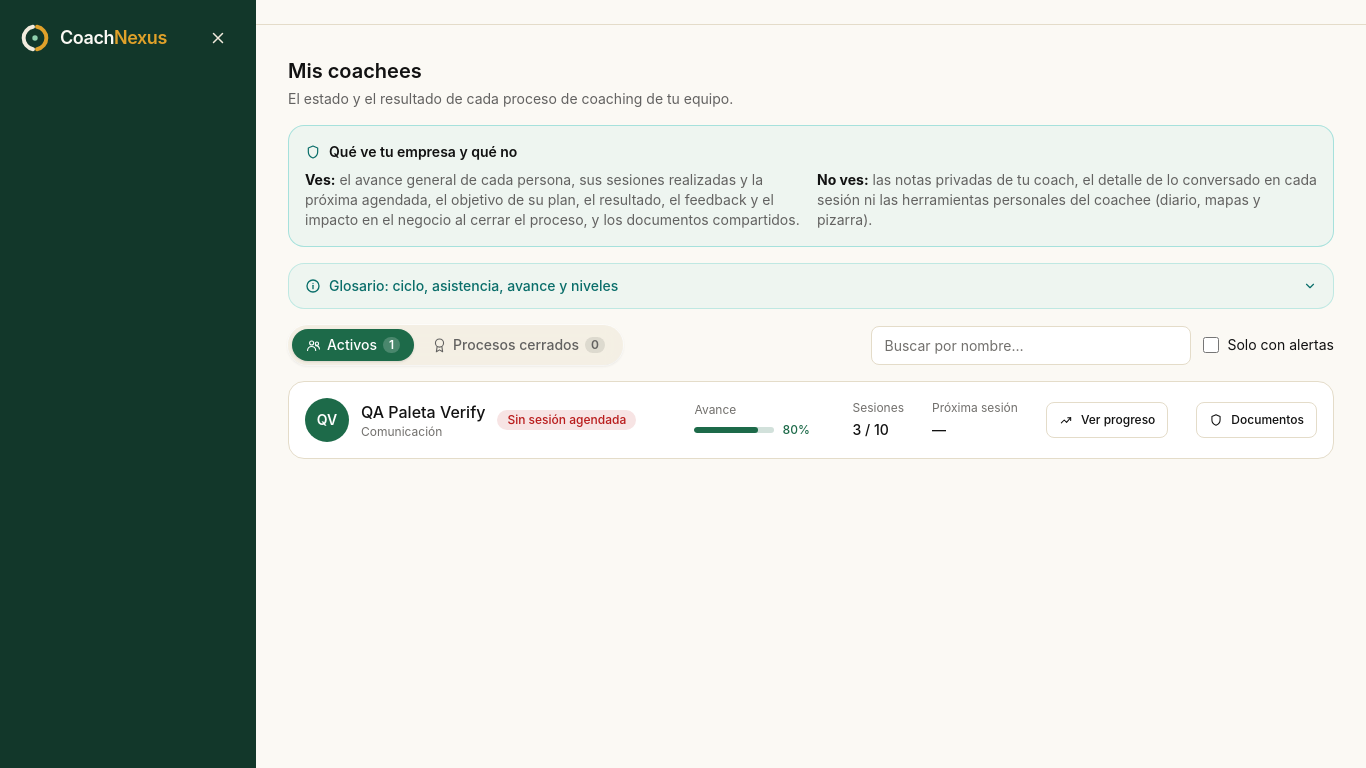
Test: CoacheesView (empresa) › shows the avance in the progreso modal as a 0-10 ring with a third-person sentence
Click the button "Ver progreso" at point(1107, 420), box [1046, 402, 1168, 438]
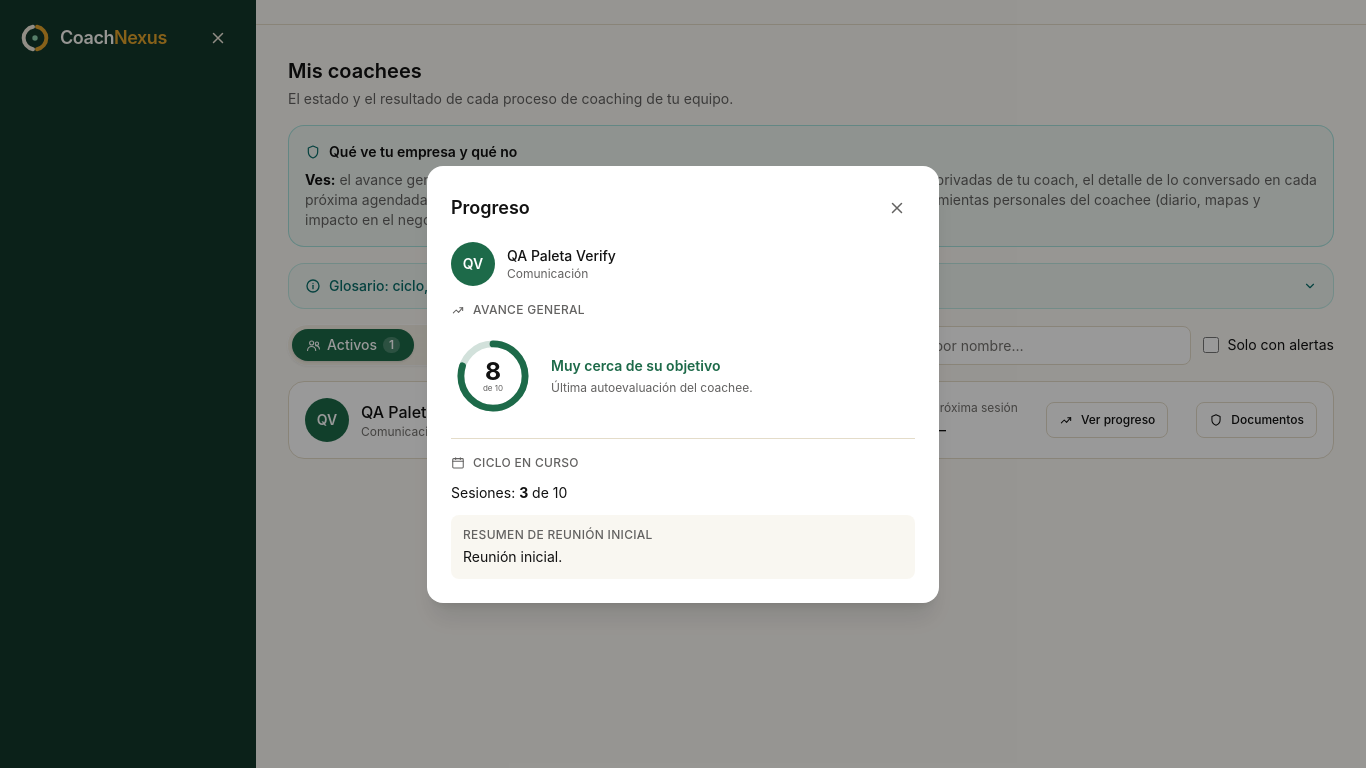
Result: the picture named "Cercanía al objetivo: 8 de 10" is shown at [451, 334, 535, 418]
Result: the text "Muy cerca de su objetivo" is shown at [551, 356, 720, 374]
Result: the text "Última autoevaluación del coachee" is shown at [551, 380, 753, 394]
